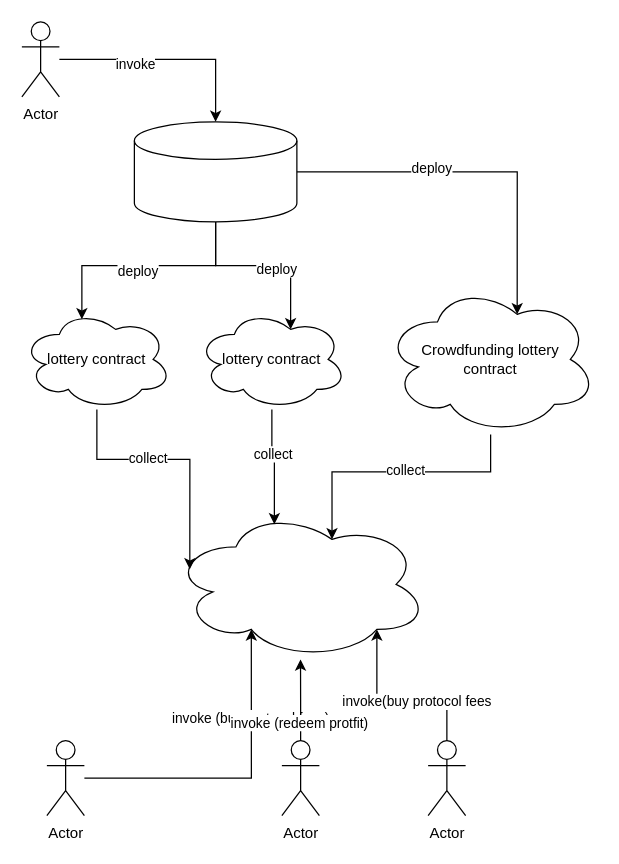
The diagram is 619 pixels wide and 864 high, and some of its shapes have lost their labels. Each missing label, with the centre of its shape:
fee collection contract: the point at 299,583
lottery factory contract: the point at 215,171
